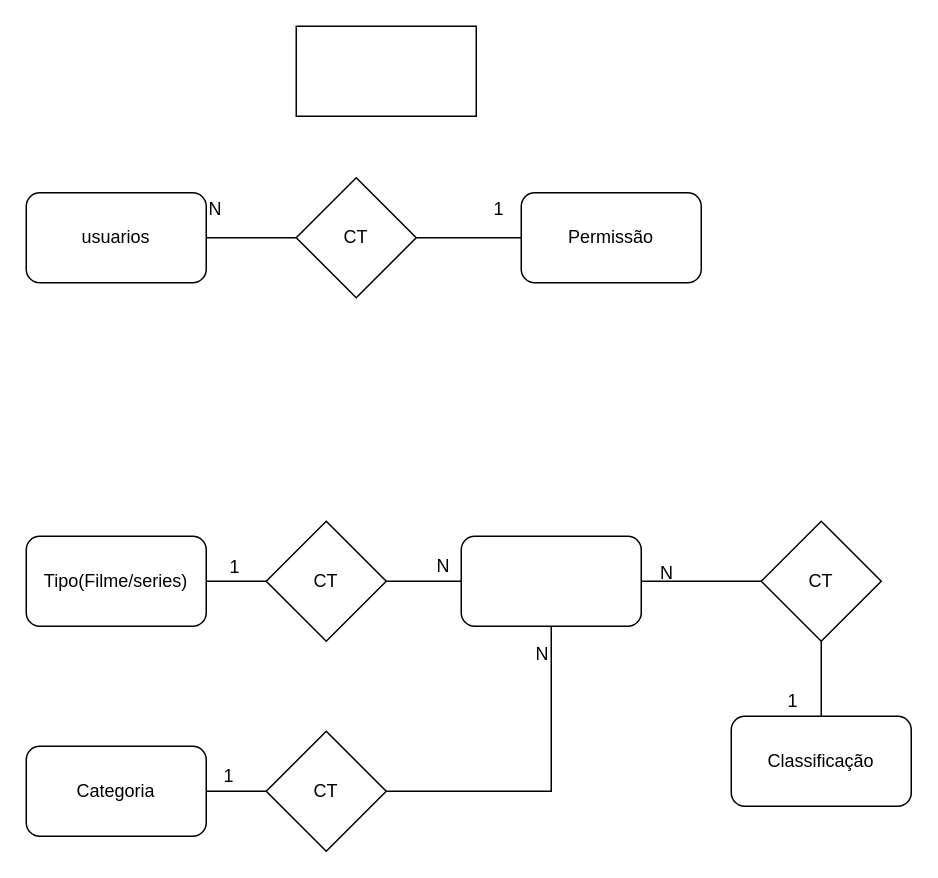
The diagram is 938 pixels wide and 878 high, and some of its shapes have lost their labels. Here are the shapes that lost their labels. From the top down, the centre of each, then its label:
point (385, 70): Conceitual
point (550, 580): Lançamentos
